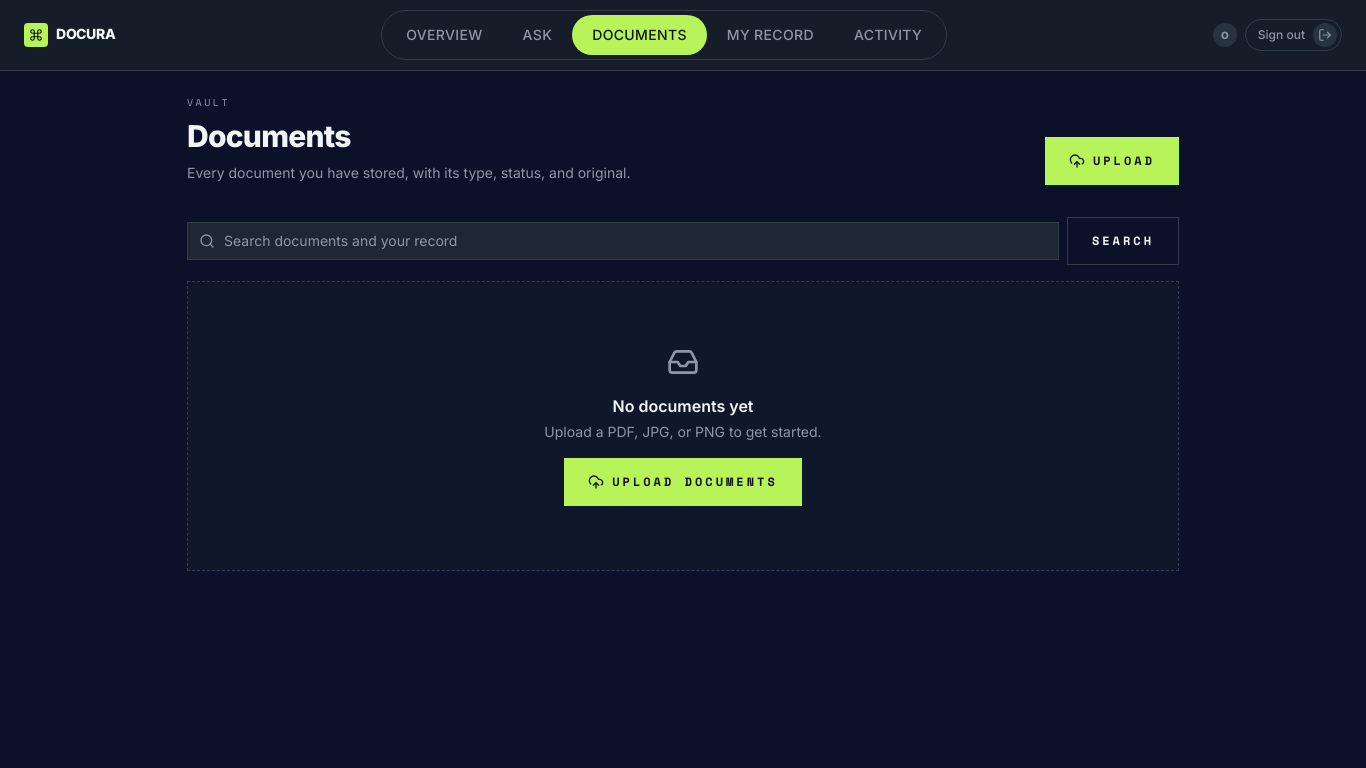
Test: Documents vault (§7) › searches documents and record, and renders matches (FR-SRCH)
Type "priya" into the search field labelled "Search documents and your record".
click(623, 241); type("priya")  # box [187,222,1059,260]
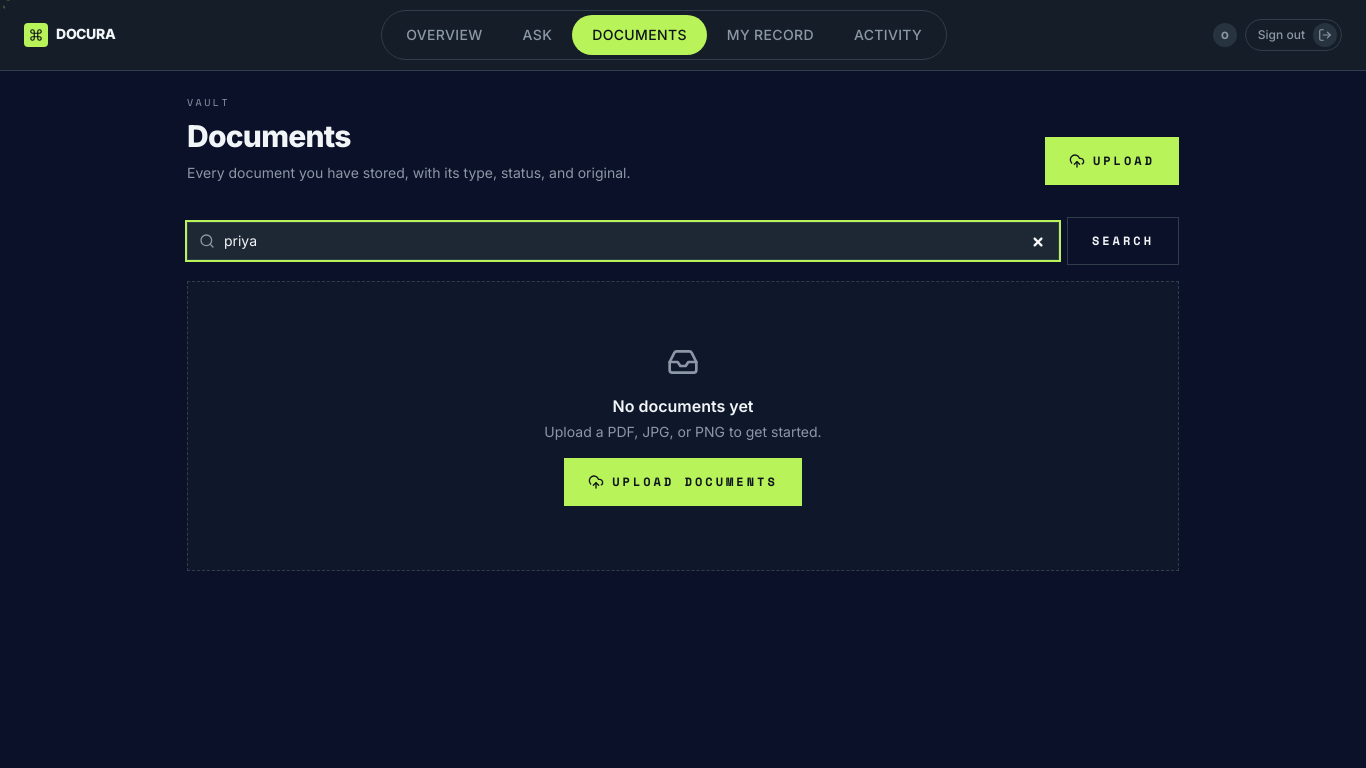
Press Enter
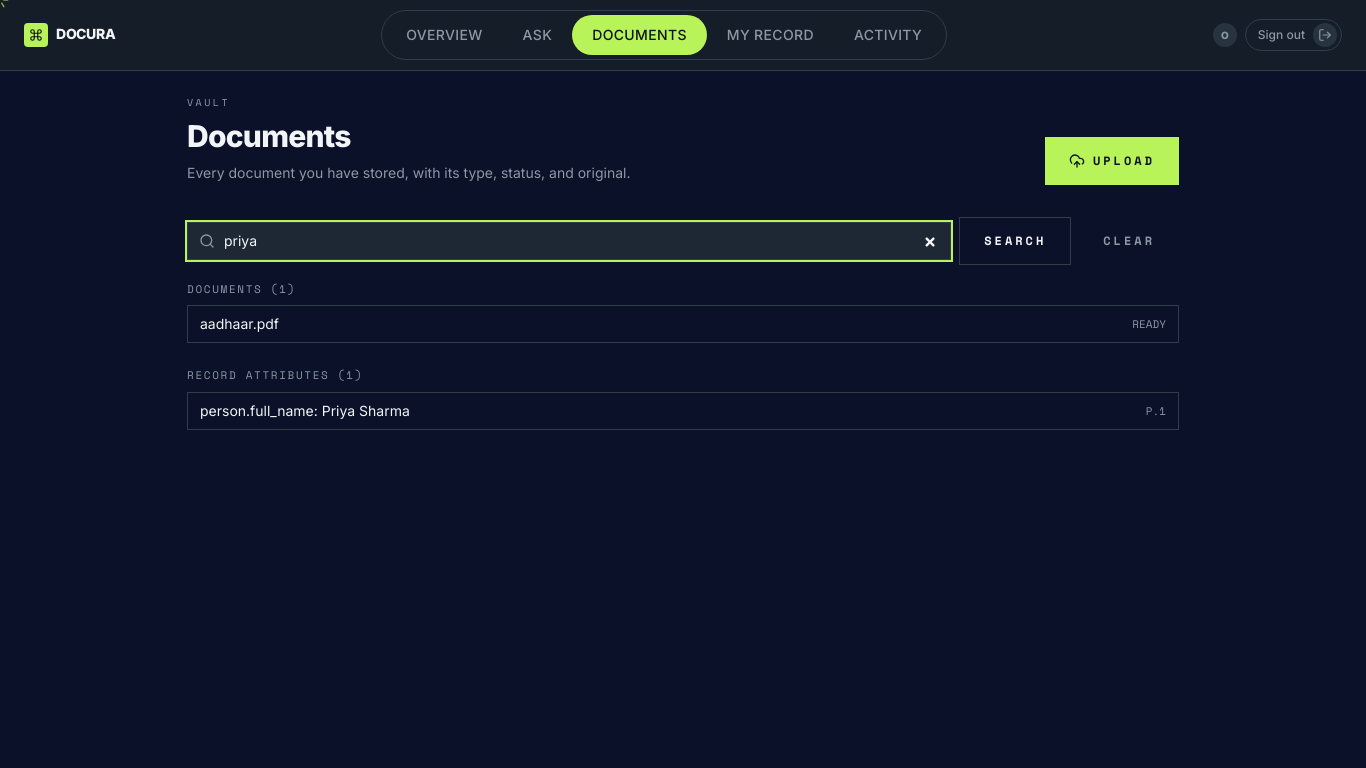
Check: the text "person.full_name: Priya Sharma" is shown, box [200,401,410,421]
